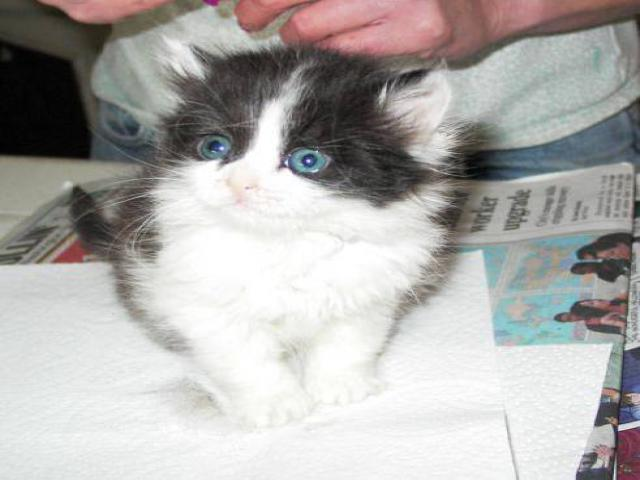cat: (60, 13, 486, 436)
